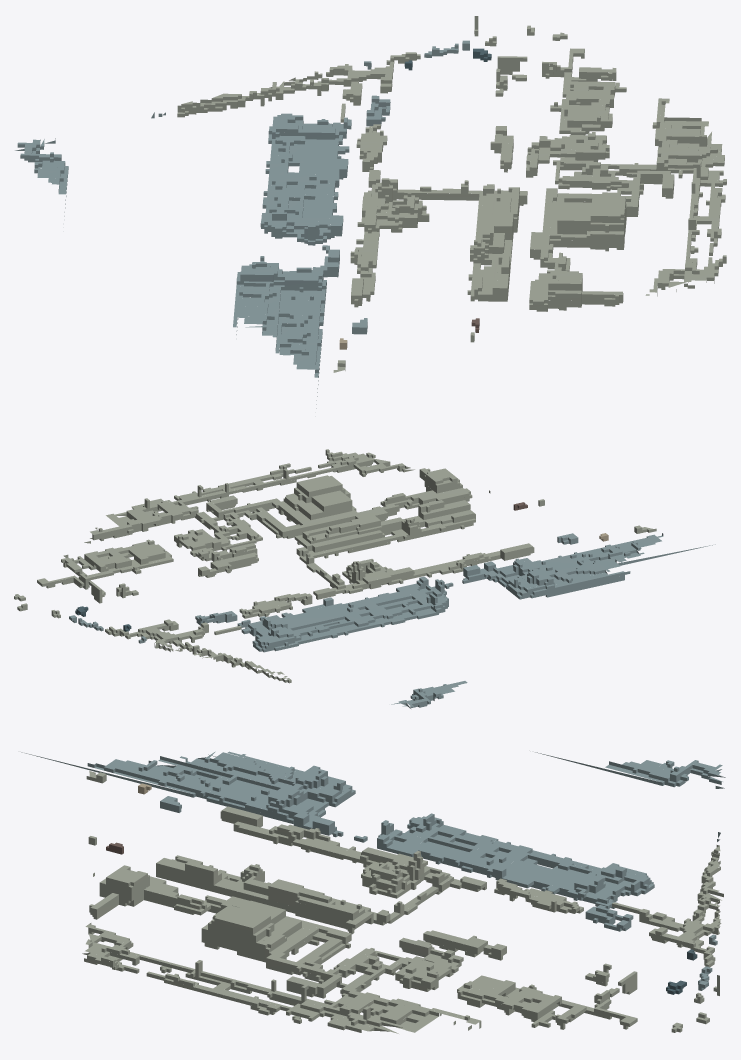
3 views of the same model, one above another, from view 1: azimuth 30°, elevation 25°; view 2: azimuth 150°, elevation 25°; view 3: azimuth 270°, elevation 25° (orthographic). The views are drawn at different scales.
Visible parts, largest first — view 1: measured-industrial; view 2: measured-industrial; view 3: measured-industrial.
Boxes of the visible parts, bbox=[...] form: measured-industrial: bbox=[15, 16, 726, 408]; measured-industrial: bbox=[14, 449, 715, 708]; measured-industrial: bbox=[21, 751, 725, 1033].
Bounding box in the file's own units: 289 × 16.55 × 282.
